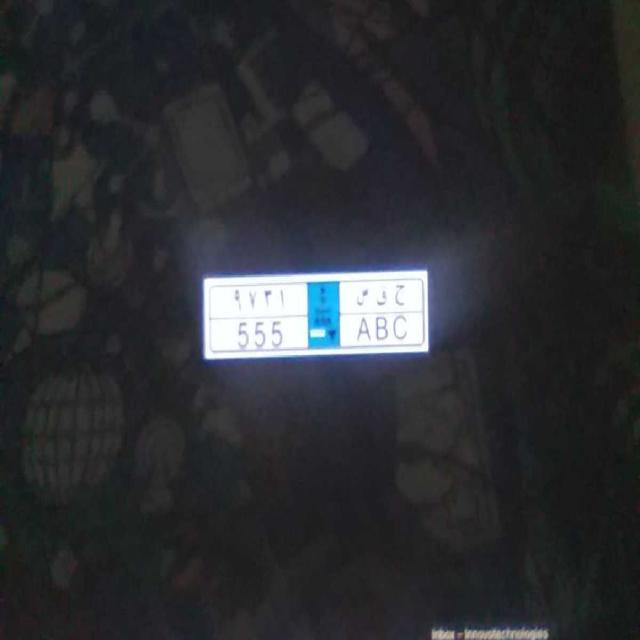license_plate: (220, 312, 418, 355)
